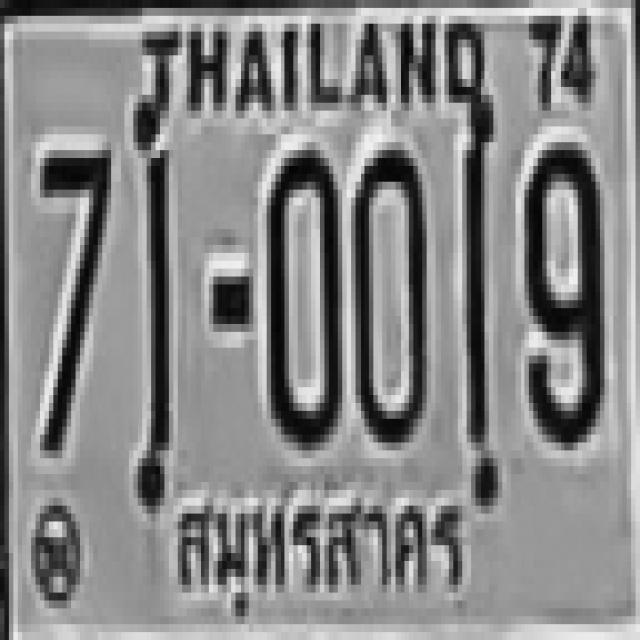0: (264, 142, 336, 442), (351, 142, 422, 435)
1: (142, 146, 169, 470)
7: (38, 142, 109, 450)
9: (520, 134, 600, 442)
SamutSakhon: (162, 486, 472, 632)
